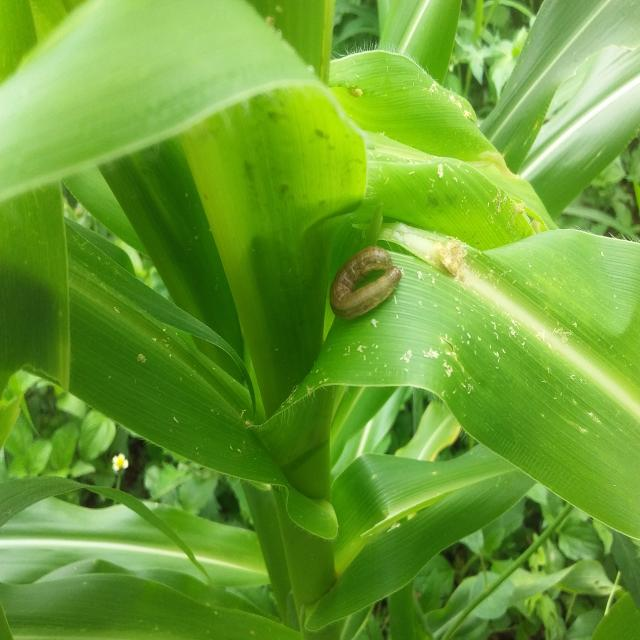yellow-stem-borer-larva: (312, 238, 424, 336)
